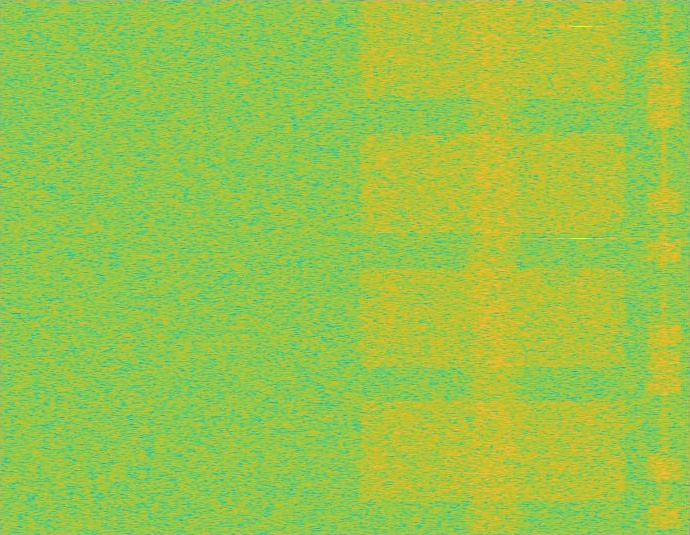5G: (355, 0, 631, 534)
DSSS: (462, 0, 524, 534), (660, 0, 668, 534)
LTE: (647, 0, 682, 534)
Radar: (574, 0, 587, 534)
